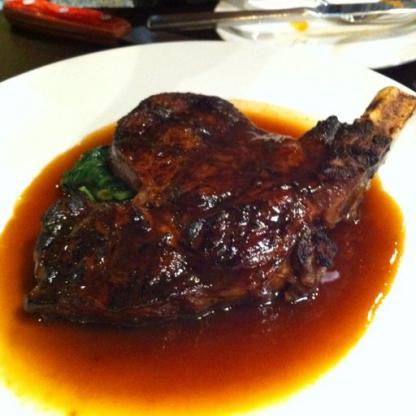beef: (31, 87, 414, 331)
